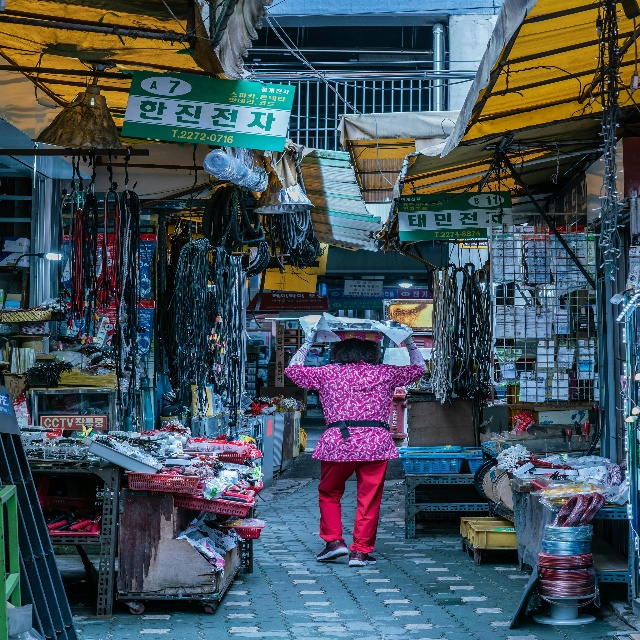Guantes: (303, 326, 316, 349), (404, 329, 413, 345)
